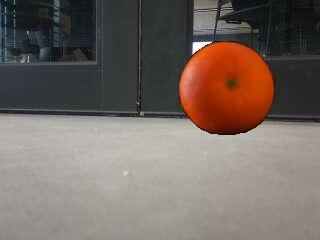Orange: (179, 41, 273, 136)
